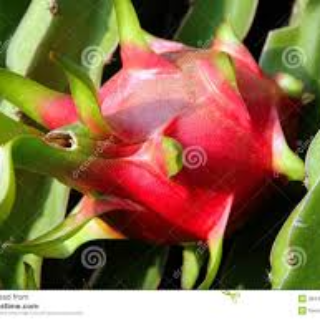thanh_long: (54, 38, 292, 254)
